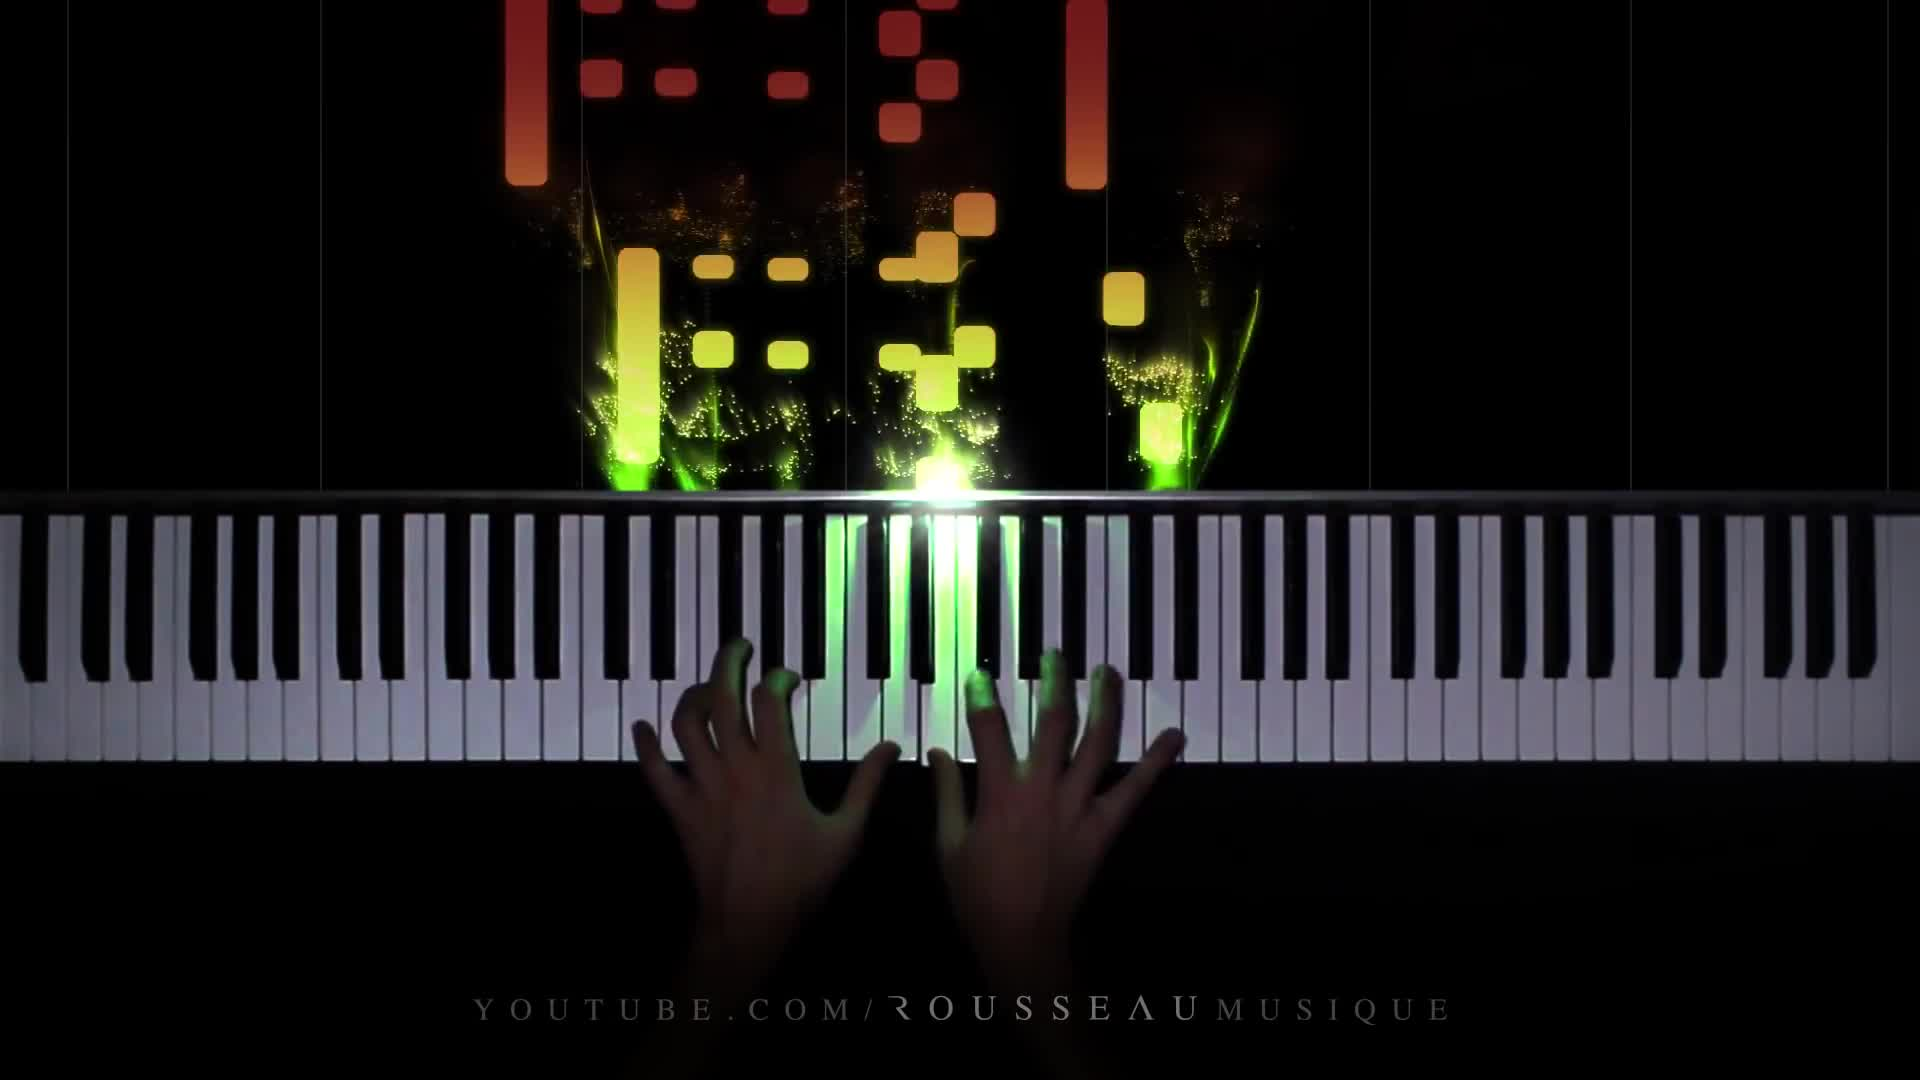left: (634, 637, 902, 905)
right: (928, 645, 1183, 928)
